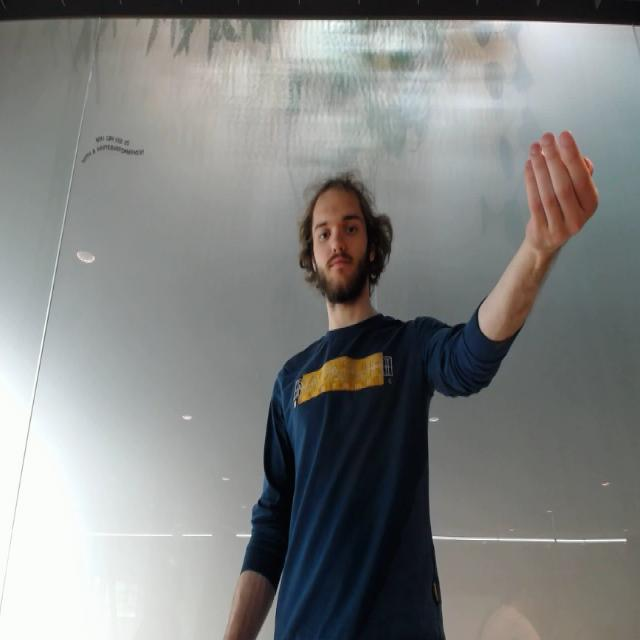forward: (520, 126, 604, 255)
